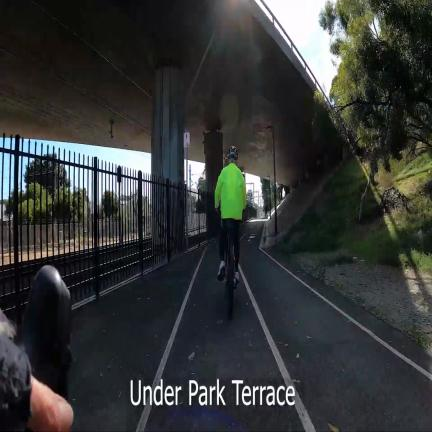Bike_Lane: (147, 224, 432, 432)
Bike_Sign: (184, 132, 190, 148)
